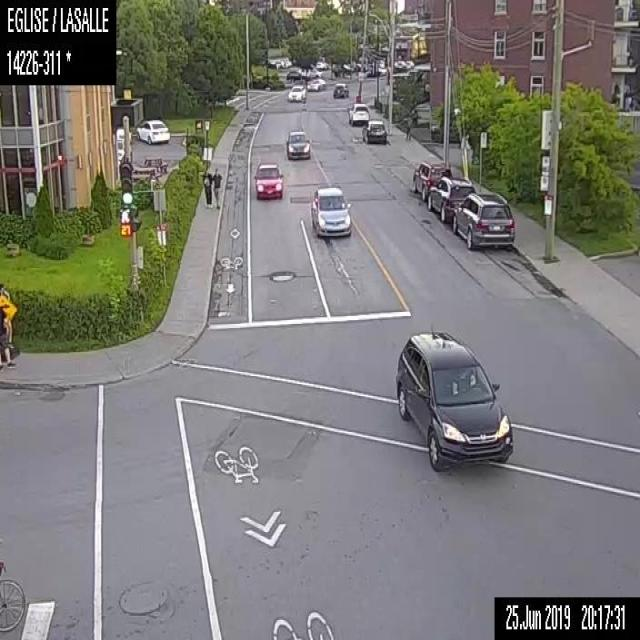pedestrian: (0, 303, 15, 373), (208, 167, 222, 207), (201, 166, 211, 206), (406, 108, 414, 139)
vehicle: (392, 326, 514, 471), (452, 189, 515, 249), (425, 174, 475, 222), (309, 183, 352, 237), (410, 158, 451, 200), (252, 161, 284, 199), (135, 117, 170, 144), (285, 126, 310, 158), (361, 120, 386, 144), (348, 101, 369, 124), (284, 67, 308, 81), (305, 76, 326, 92), (286, 84, 306, 100), (332, 80, 349, 97), (332, 63, 352, 76), (264, 57, 282, 68)
